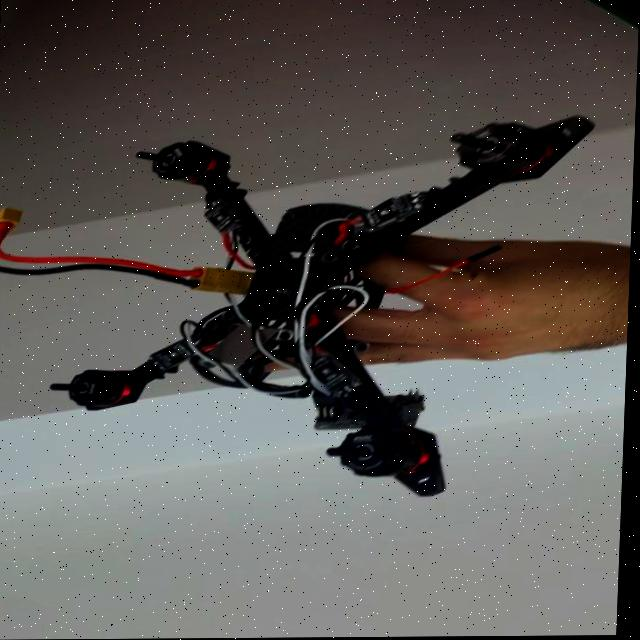drone: (42, 102, 598, 510)
